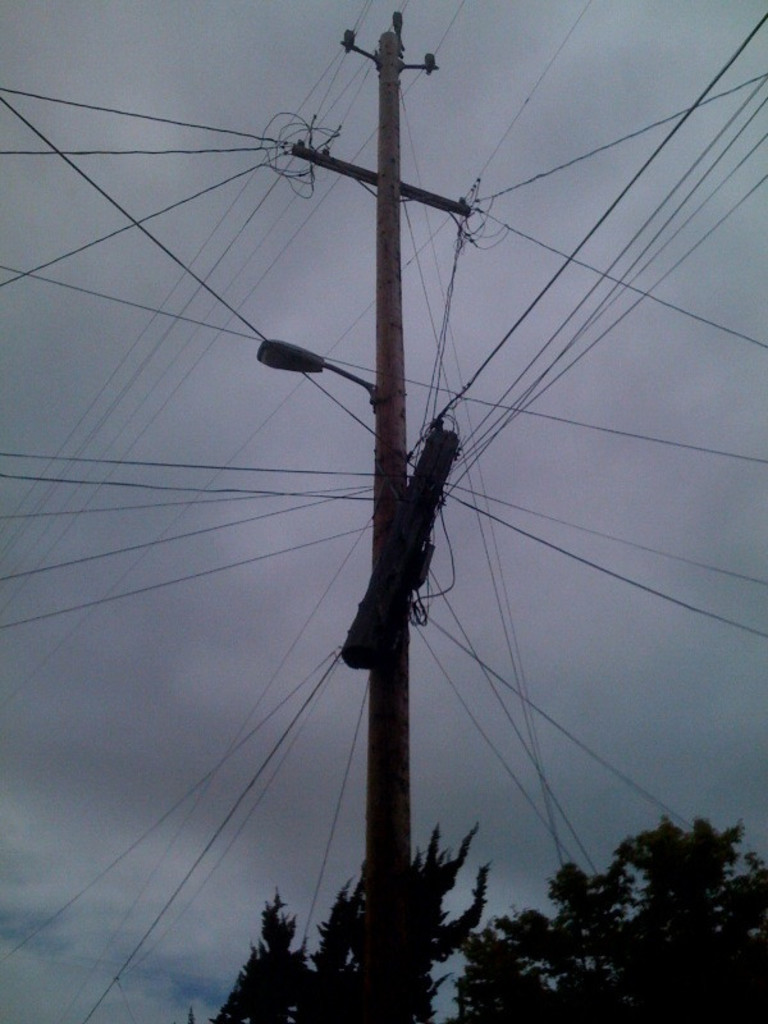Tree: (443, 810, 768, 1022), (168, 813, 491, 1023)
